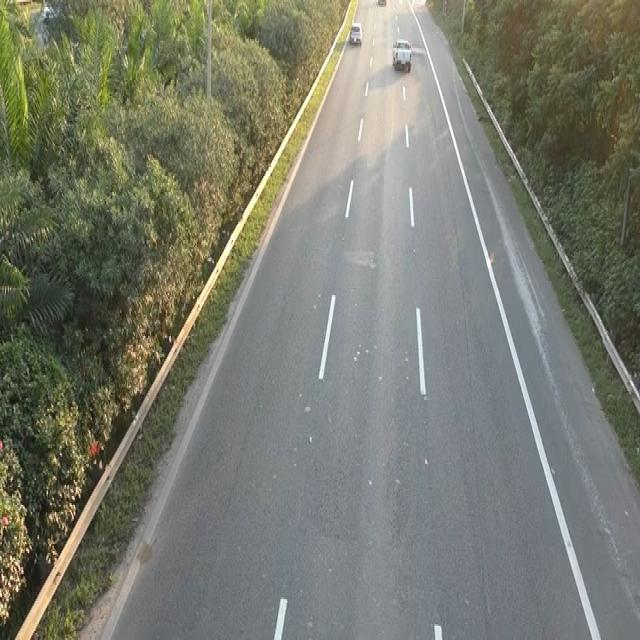bus: (348, 20, 363, 44)
car: (389, 34, 415, 78)
